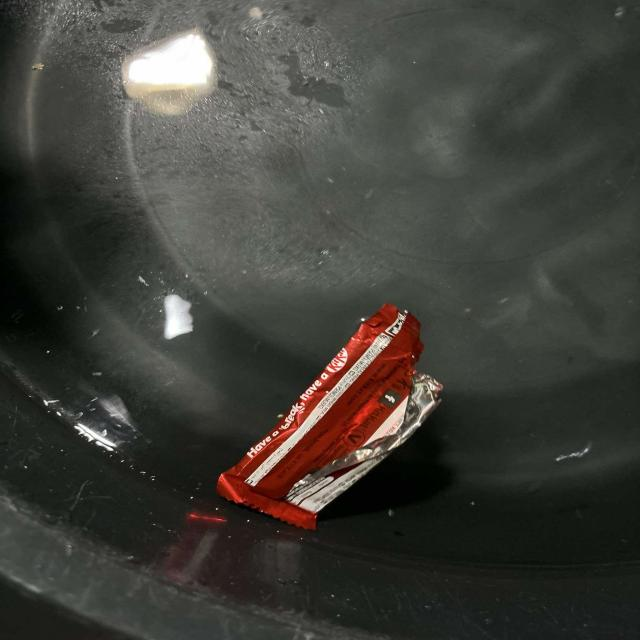Plastic Wrapper: (192, 289, 475, 539)
